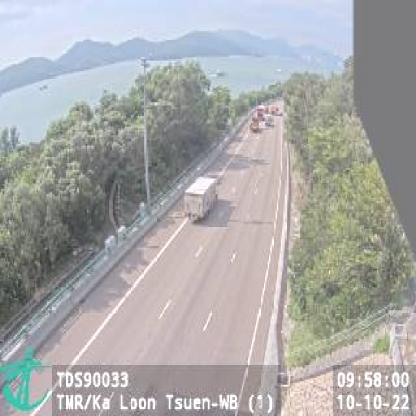Truck: (184, 174, 219, 223)
